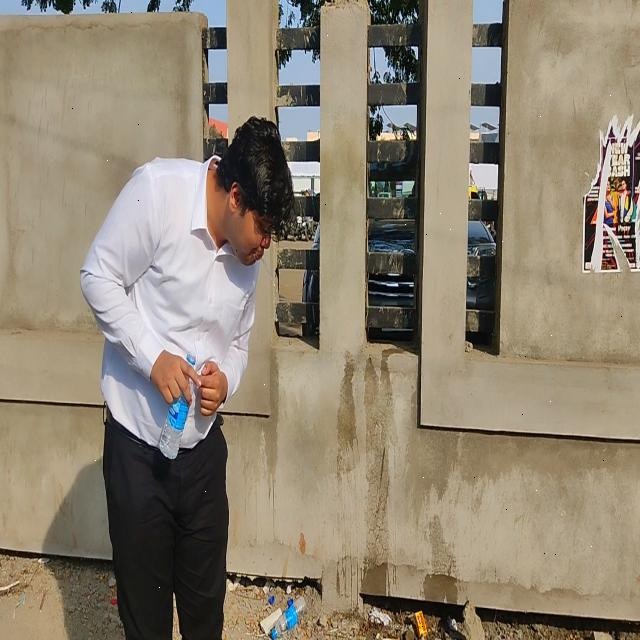spit: (223, 136, 305, 306)
